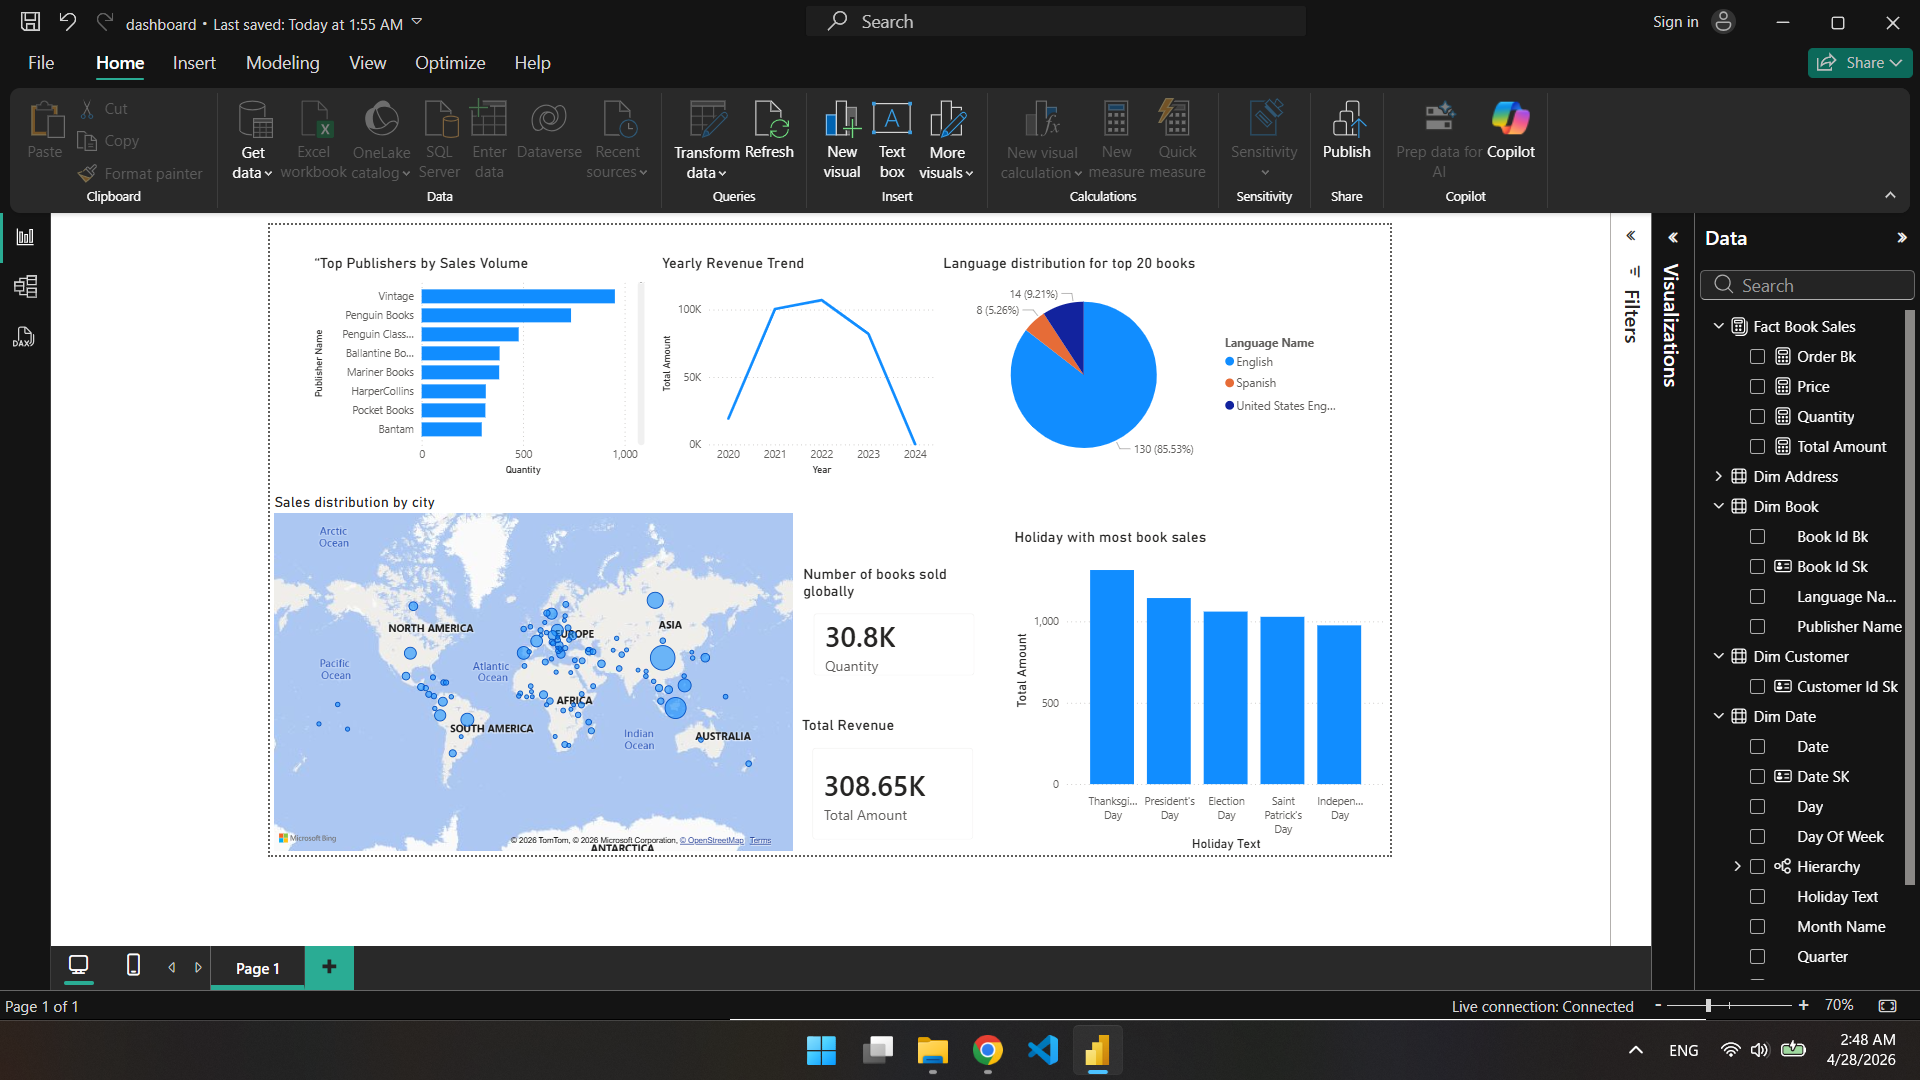

What the dashboard file says about the page in this screenshot:
{"tool":"powerbi","page":{"name":"Page 1","canvas":[1280,720],"ordinal":0},"visuals":[{"type":"barChart","title":"“Top Publishers by Sales Volume","fields":{"Category":["Dim Book.Publisher Name"],"Y":["Fact Book Sales.Quantity"]},"box":[45.6,33.3,387.8,257.8],"z":0},{"type":"lineChart","title":"Yearly Revenue Trend","fields":{"Category":["Dim Date.Year"],"Y":["Fact Book Sales.Total Amount"]},"box":[443,32.9,321.1,258],"z":1000},{"type":"map","title":"Sales distribution by city","fields":{"Category":["Dim Address.Country Name"],"Size":["Fact Book Sales.Quantity"]},"box":[0,305.7,602.9,414.3],"z":2000},{"type":"columnChart","title":"Holiday with most book sales","fields":{"Category":["Dim Date.Holiday Text"],"Y":["Fact Book Sales.Total Amount"]},"box":[845.7,345.7,434.3,374.3],"z":2001},{"type":"pieChart","title":"Language distribution for top 20 books","fields":{"Y":["Fact Book Sales.Quantity"],"Series":["Dim Book.Language Name"]},"box":[764.1,32.9,469.8,258],"z":2002},{"type":"cardVisual","fields":{"Data":["Fact Book Sales.Quantity"]},"box":[640,561.4,182.9,148.6],"z":2003},{"type":"cardVisual","title":"Total Revenue ","fields":{"Data":["Fact Book Sales.Total Amount"]},"box":[602.9,561.4,218.6,158.6],"z":2004},{"type":"cardVisual","title":"Number of books sold globally","fields":{"Data":["Fact Book Sales.Quantity"]},"box":[604.3,388.6,218.6,144.3],"z":2005}]}

Visuals, with their boxes on the page's 1280x720 design canvas (x1, y1, x2, y2). These are canvas units, not pixel positions in the 1920x1080 screenshot, which may show the page scaled, cropped or inside an application window:
"“Top Publishers by Sales Volume" barChart: [46, 33, 433, 291]
"Yearly Revenue Trend" lineChart: [443, 33, 764, 291]
"Sales distribution by city" map: [0, 306, 603, 720]
"Holiday with most book sales" columnChart: [846, 346, 1280, 720]
"Language distribution for top 20 books" pieChart: [764, 33, 1234, 291]
cardVisual - Fact Book Sales.Quantity: [640, 561, 823, 710]
"Total Revenue " cardVisual: [603, 561, 822, 720]
"Number of books sold globally" cardVisual: [604, 389, 823, 533]
